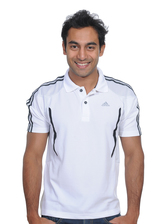clothoes: (26, 70, 145, 217)
